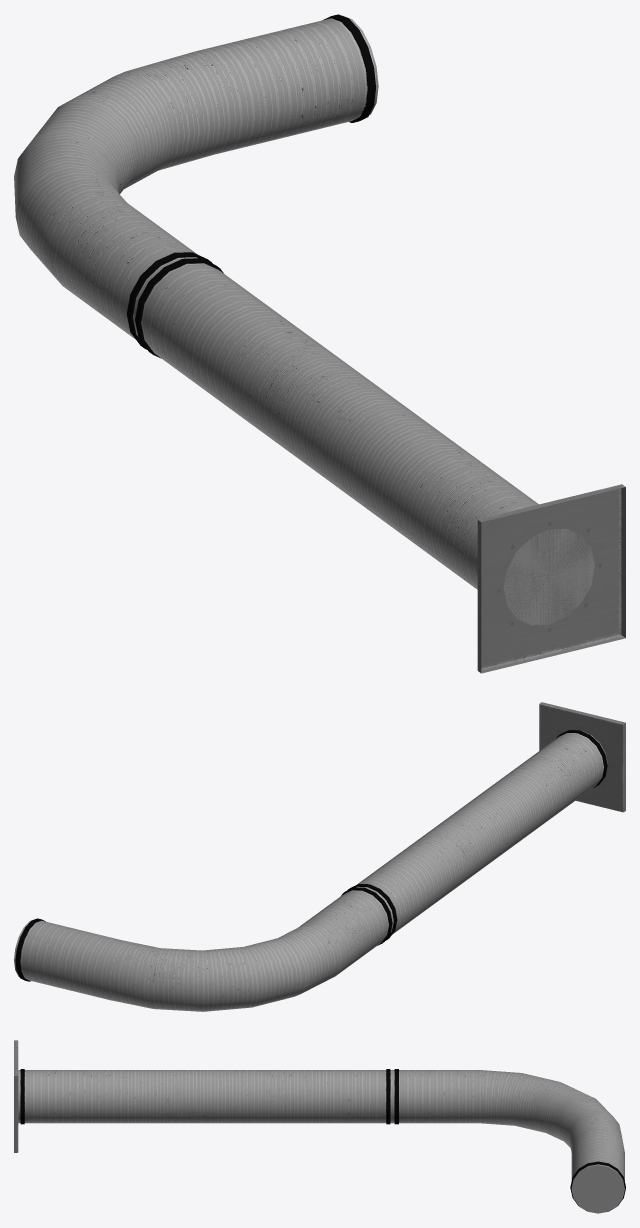
3 renders of one model, top to bottom at view 1: azimuth 30°, elevation 25°; view 2: azimuth 150°, elevation 25°; view 3: azimuth 270°, elevation 25°, orthographic. The views are drawn at different scales.
Visible parts, largest first — view 1: Straight_Low, Bend_Low, WallThing_Low; view 2: Bend_Low, Straight_Low, WallThing_Low; view 3: Straight_Low, Bend_Low, WallThing_Low.
Part boxes in pixels (x1,y1,x2,y2): Straight_Low: (134, 258, 594, 625); Bend_Low: (14, 14, 378, 349); WallThing_Low: (477, 484, 625, 673); Bend_Low: (14, 887, 392, 1011); Straight_Low: (347, 730, 607, 940); WallThing_Low: (539, 702, 625, 812); Straight_Low: (18, 1069, 392, 1124); Bend_Low: (392, 1069, 625, 1213); WallThing_Low: (14, 1040, 18, 1152).
Size of the model in its own units: 121 by 39.26 by 284.
Materials: 1 (1 with a texture image).
